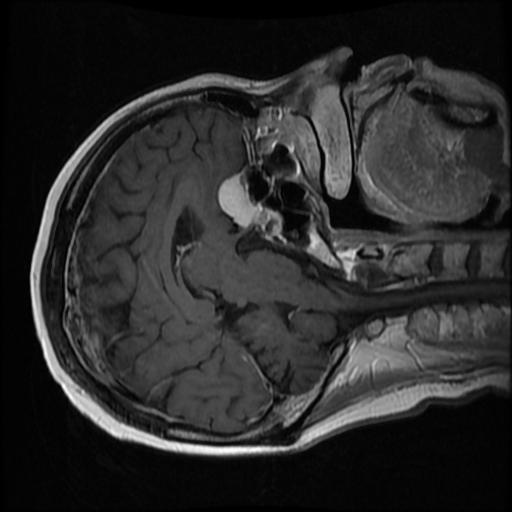meningioma: (214, 173, 255, 226)
